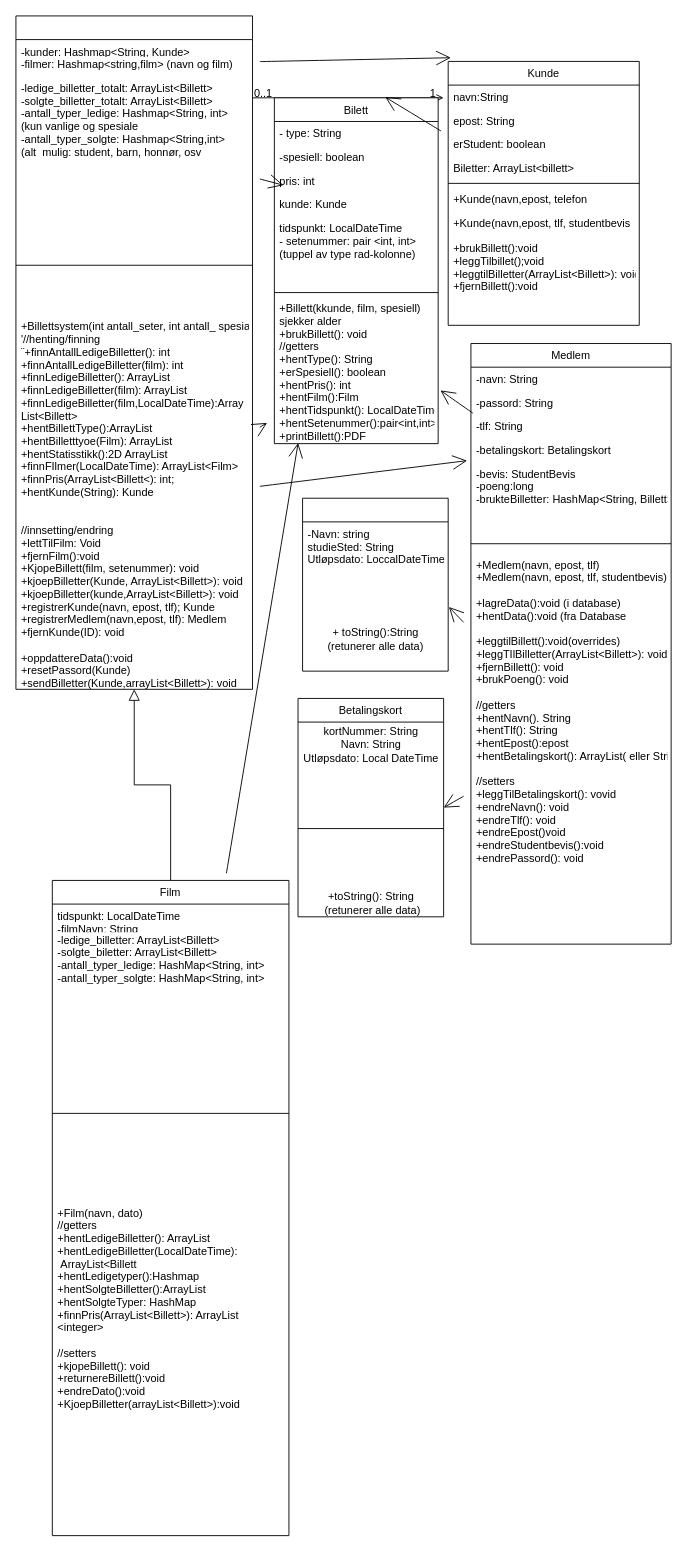
This 700x1554 diagram has some shape labels left out. Here are the shapes that lost their labels. From the top down, the box of each, then its label:
(15, 15, 253, 689): Bilettsystem
(302, 497, 448, 671): Studentbevis
